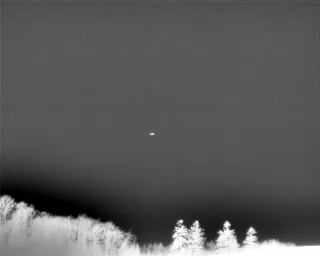BIRD: (147, 130, 157, 138)
